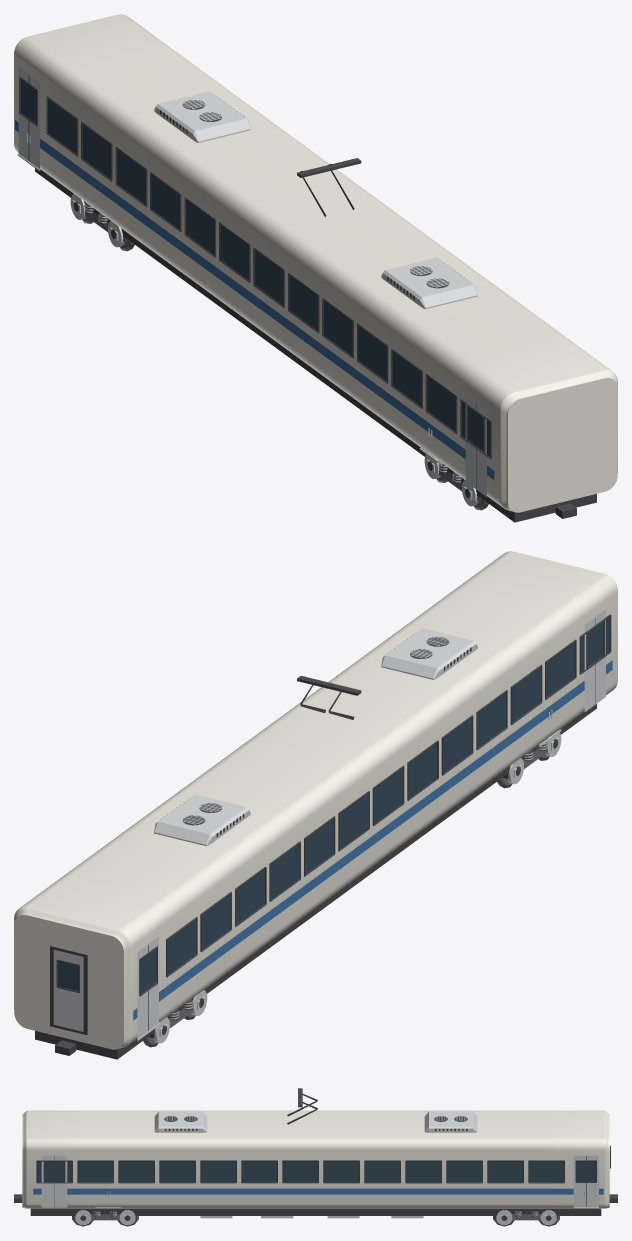
Rendered from 379_close.fbx.
3 renders of one model, top to bottom at view 1: azimuth 30°, elevation 25°; view 2: azimuth 150°, elevation 25°; view 3: azimuth 270°, elevation 25°, orthographic. The views are drawn at different scales.
Visible parts, largest first — view 1: 379_close; view 2: 379_close; view 3: 379_close.
Boxes of the visible parts, x1,y1,x2,y2 form: 379_close: [14, 14, 617, 522]; 379_close: [14, 551, 617, 1059]; 379_close: [14, 1088, 617, 1226].
Size of the model in its own units: 3.01 by 4.77 by 21.8.
